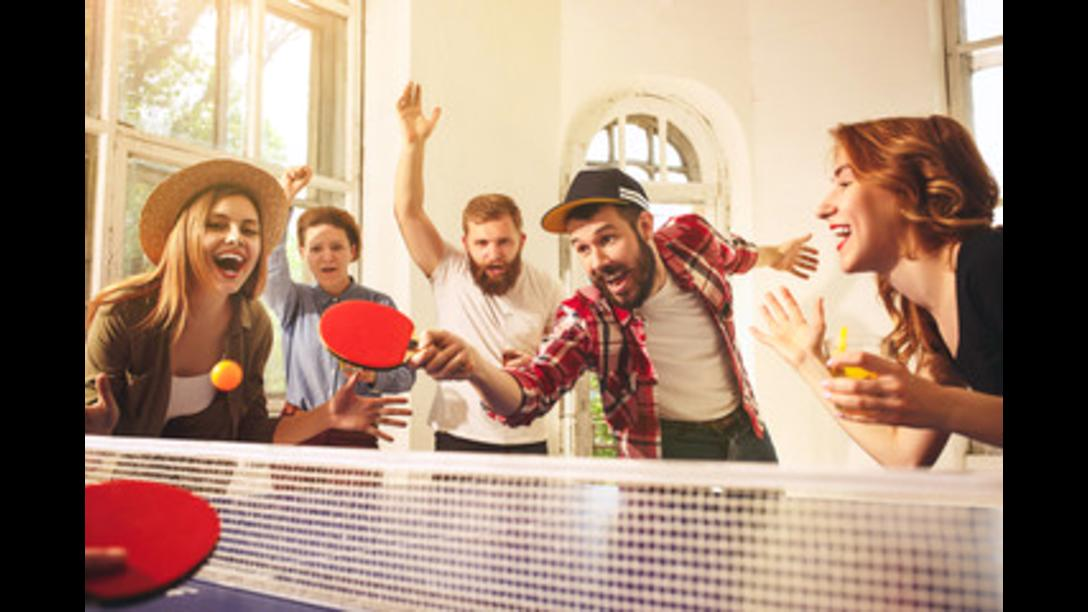Table-Tennis-Ball: (210, 360, 242, 390)
